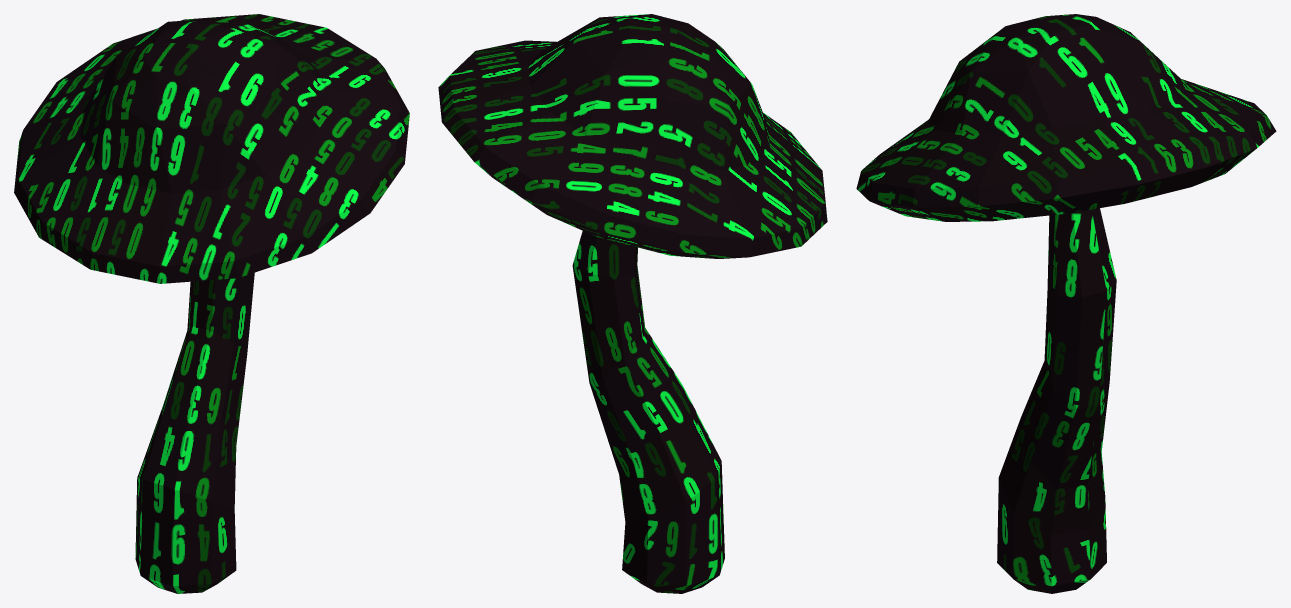
The model's file is Mushroom_Yellow_code.fbx.
3 views of the same model, side by side, from view 1: azimuth 30°, elevation 25°; view 2: azimuth 150°, elevation 25°; view 3: azimuth 270°, elevation 25° (orthographic). The views are drawn at different scales.
Parts seen in each view (by area): view 1: Mushroom_Yellow_code; view 2: Mushroom_Yellow_code; view 3: Mushroom_Yellow_code.
Part boxes in pixels (left/top/right/bottom): Mushroom_Yellow_code: left=14, top=14, right=409, bottom=593; Mushroom_Yellow_code: left=438, top=14, right=827, bottom=593; Mushroom_Yellow_code: left=856, top=14, right=1276, bottom=593.
Bounding box in the file's own units: 0.2003 × 0.306 × 0.2049.
Materials: 1 (1 with a texture image).
